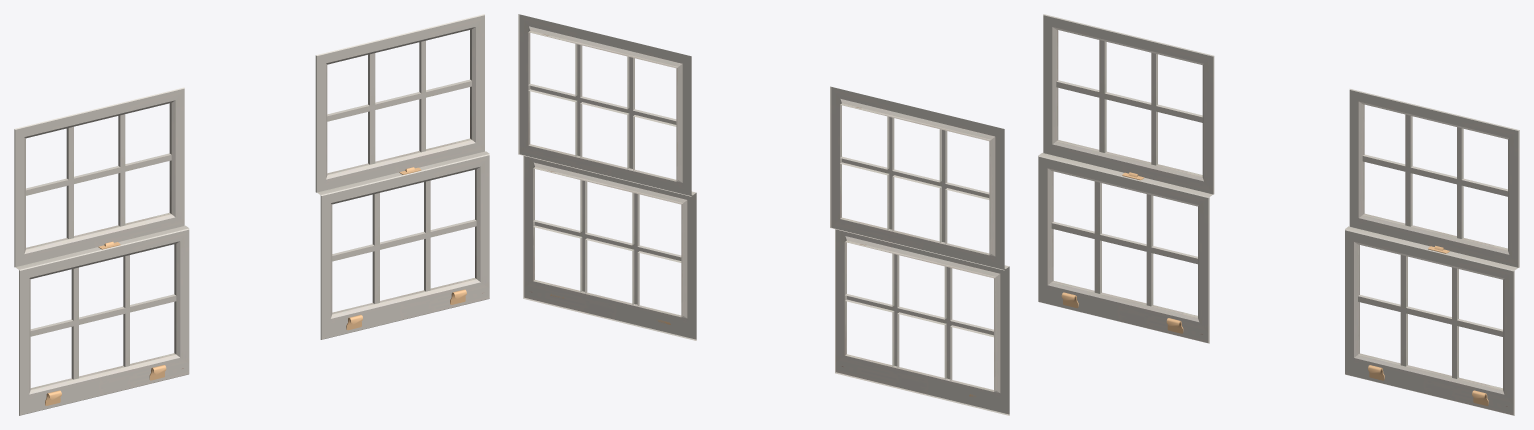
The model's file is Ventanas_2.obj.
3 renders of one model, left to right at view 1: azimuth 30°, elevation 25°; view 2: azimuth 150°, elevation 25°; view 3: azimuth 330°, elevation 25°, orthographic. The views are drawn at different scales.
Visible parts, largest first — view 1: Ventanas_2; view 2: Ventanas_2; view 3: Ventanas_2.
Part boxes in pixels (x1=…): Ventanas_2: x1=14, y1=14, x2=489, y2=415; Ventanas_2: x1=518, y1=14, x2=1009, y2=415; Ventanas_2: x1=1038, y1=14, x2=1519, y2=415.
Bounding box in the file's own units: 2.57 × 1.48 × 0.1235.
Materials: 1 (1 with a texture image).
